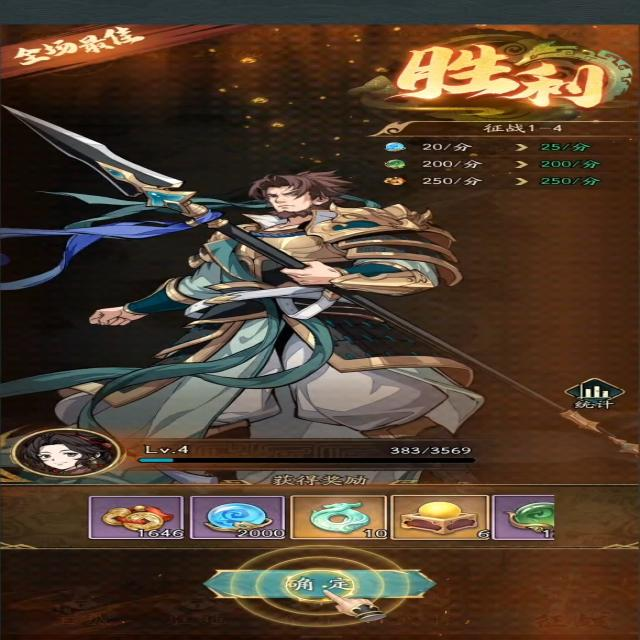hint-guide: (188, 545, 435, 629)
operation-confirm: (192, 566, 436, 602)
